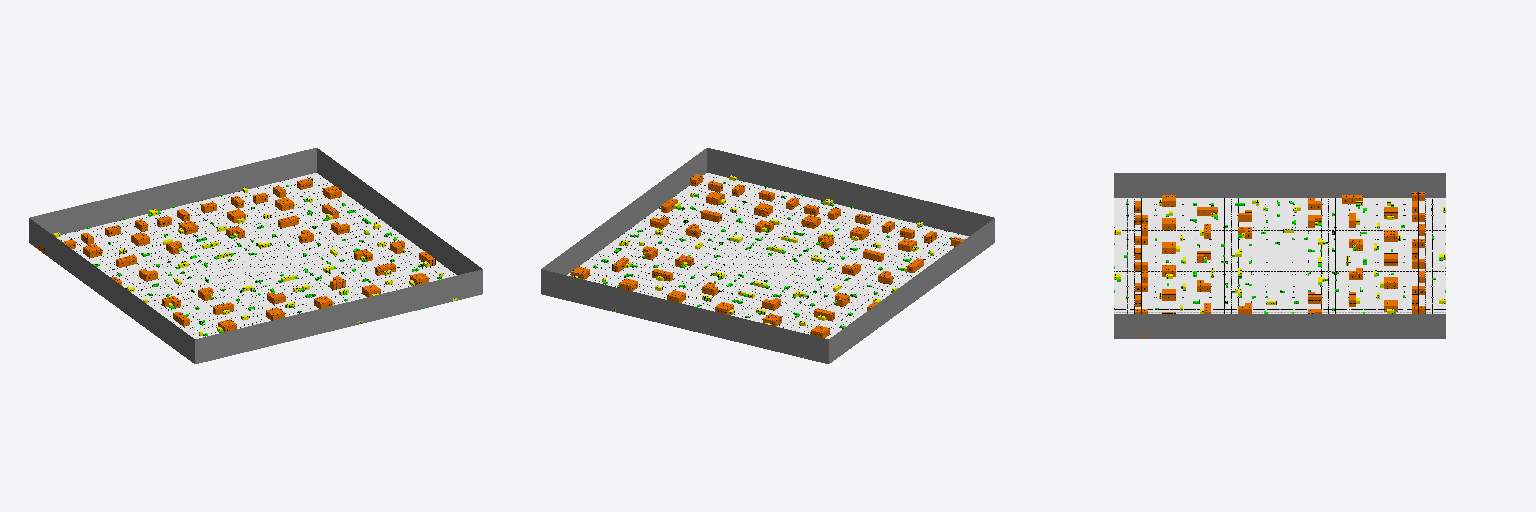
3 views of the same model, side by side, from view 1: azimuth 30°, elevation 25°; view 2: azimuth 150°, elevation 25°; view 3: azimuth 270°, elevation 25° (orthographic).
Parts seen in each view (by area): view 1: 2nomansland; view 2: 2nomansland; view 3: 2nomansland.
Part boxes in pixels (x1,y1,x2,y2): 2nomansland: (29,148,482,363); 2nomansland: (541,148,994,363); 2nomansland: (1114,173,1445,338).
Size of the model in its own units: 96 by 8 by 96.
5 materials, 4 textured.